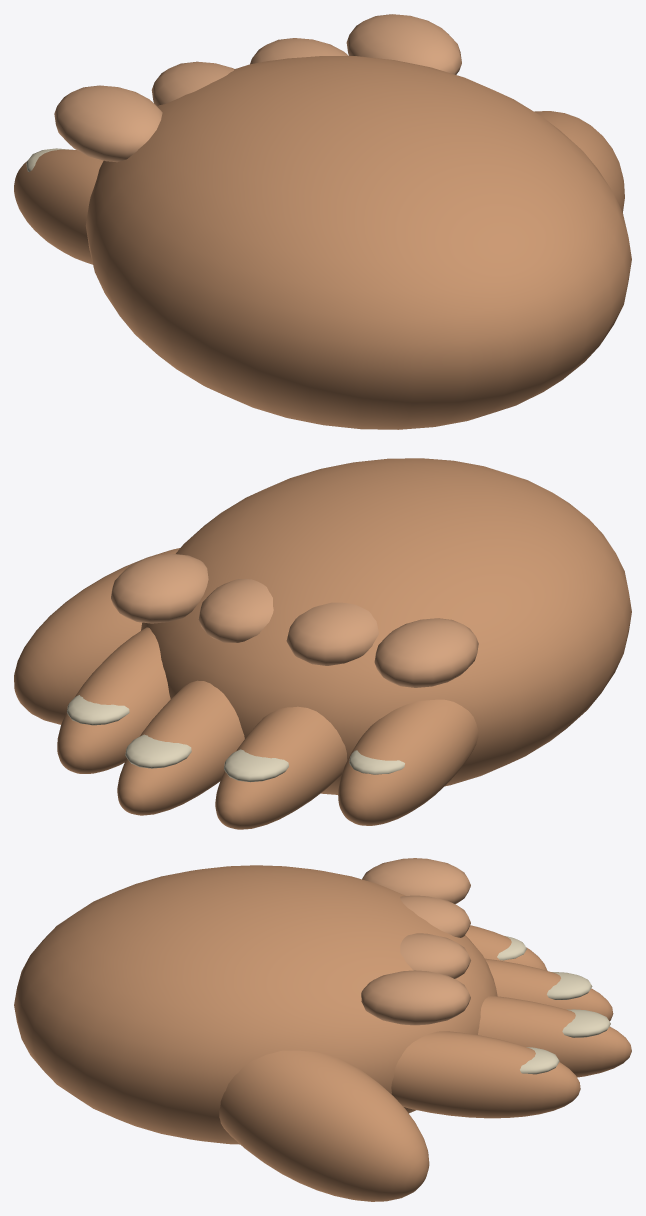
File: local_hand_left.glb
The picture shows the model from 3 angles, top to bottom: view 1: azimuth 30°, elevation 25°; view 2: azimuth 150°, elevation 25°; view 3: azimuth 270°, elevation 25°; orthographic projection. The views are drawn at different scales.
Parts seen in each view (by area): view 1: Palm.002_Left, Finger.011_Left, Knuckle.011_Left, Knuckle.008_Left, Thumb.002_Left, Knuckle.010_Left, Knuckle.009_Left; view 2: Palm.002_Left, Finger.011_Left, Thumb.002_Left, Finger.010_Left, Finger.009_Left, Finger.008_Left, Knuckle.011_Left, Knuckle.008_Left, Knuckle.010_Left, Knuckle.009_Left, Fingernail.009_Left, Fingernail.010_Left (+2 smaller); view 3: Palm.002_Left, Thumb.002_Left, Finger.008_Left, Finger.009_Left, Knuckle.008_Left, Knuckle.011_Left, Finger.010_Left, Knuckle.009_Left, Knuckle.010_Left, Finger.011_Left, Fingernail.009_Left, Fingernail.010_Left (+1 smaller).
Part boxes in pixels (left/top/right/bottom): Palm.002_Left: left=85, top=56, right=631, bottom=429; Finger.011_Left: left=14, top=149, right=103, bottom=264; Knuckle.011_Left: left=54, top=85, right=162, bottom=162; Knuckle.008_Left: left=346, top=14, right=461, bottom=74; Thumb.002_Left: left=534, top=111, right=624, bottom=212; Knuckle.010_Left: left=151, top=61, right=234, bottom=106; Knuckle.009_Left: left=250, top=38, right=348, bottom=64; Palm.002_Left: left=141, top=458, right=631, bottom=794; Finger.011_Left: left=338, top=699, right=478, bottom=825; Thumb.002_Left: left=14, top=548, right=179, bottom=724; Finger.010_Left: left=215, top=706, right=347, bottom=829; Finger.009_Left: left=117, top=680, right=244, bottom=815; Finger.008_Left: left=57, top=627, right=170, bottom=773; Knuckle.011_Left: left=374, top=618, right=478, bottom=687; Knuckle.008_Left: left=111, top=554, right=208, bottom=623; Knuckle.010_Left: left=286, top=602, right=378, bottom=665; Knuckle.009_Left: left=198, top=579, right=273, bottom=642; Fingernail.009_Left: left=125, top=734, right=191, bottom=768; Fingernail.010_Left: left=224, top=749, right=288, bottom=782; Palm.002_Left: left=14, top=865, right=497, bottom=1144; Thumb.002_Left: left=219, top=1050, right=429, bottom=1201; Finger.008_Left: left=391, top=1031, right=580, bottom=1118; Finger.009_Left: left=478, top=995, right=631, bottom=1077; Knuckle.008_Left: left=361, top=970, right=470, bottom=1025; Knuckle.011_Left: left=362, top=858, right=470, bottom=904; Finger.010_Left: left=485, top=958, right=613, bottom=1021; Knuckle.009_Left: left=400, top=933, right=470, bottom=978; Knuckle.010_Left: left=400, top=895, right=470, bottom=937; Finger.011_Left: left=465, top=925, right=547, bottom=970; Fingernail.009_Left: left=562, top=1009, right=610, bottom=1037; Fingernail.010_Left: left=547, top=972, right=592, bottom=999.
Size of the model in its own units: 0.1066 by 0.052 by 0.1325.
